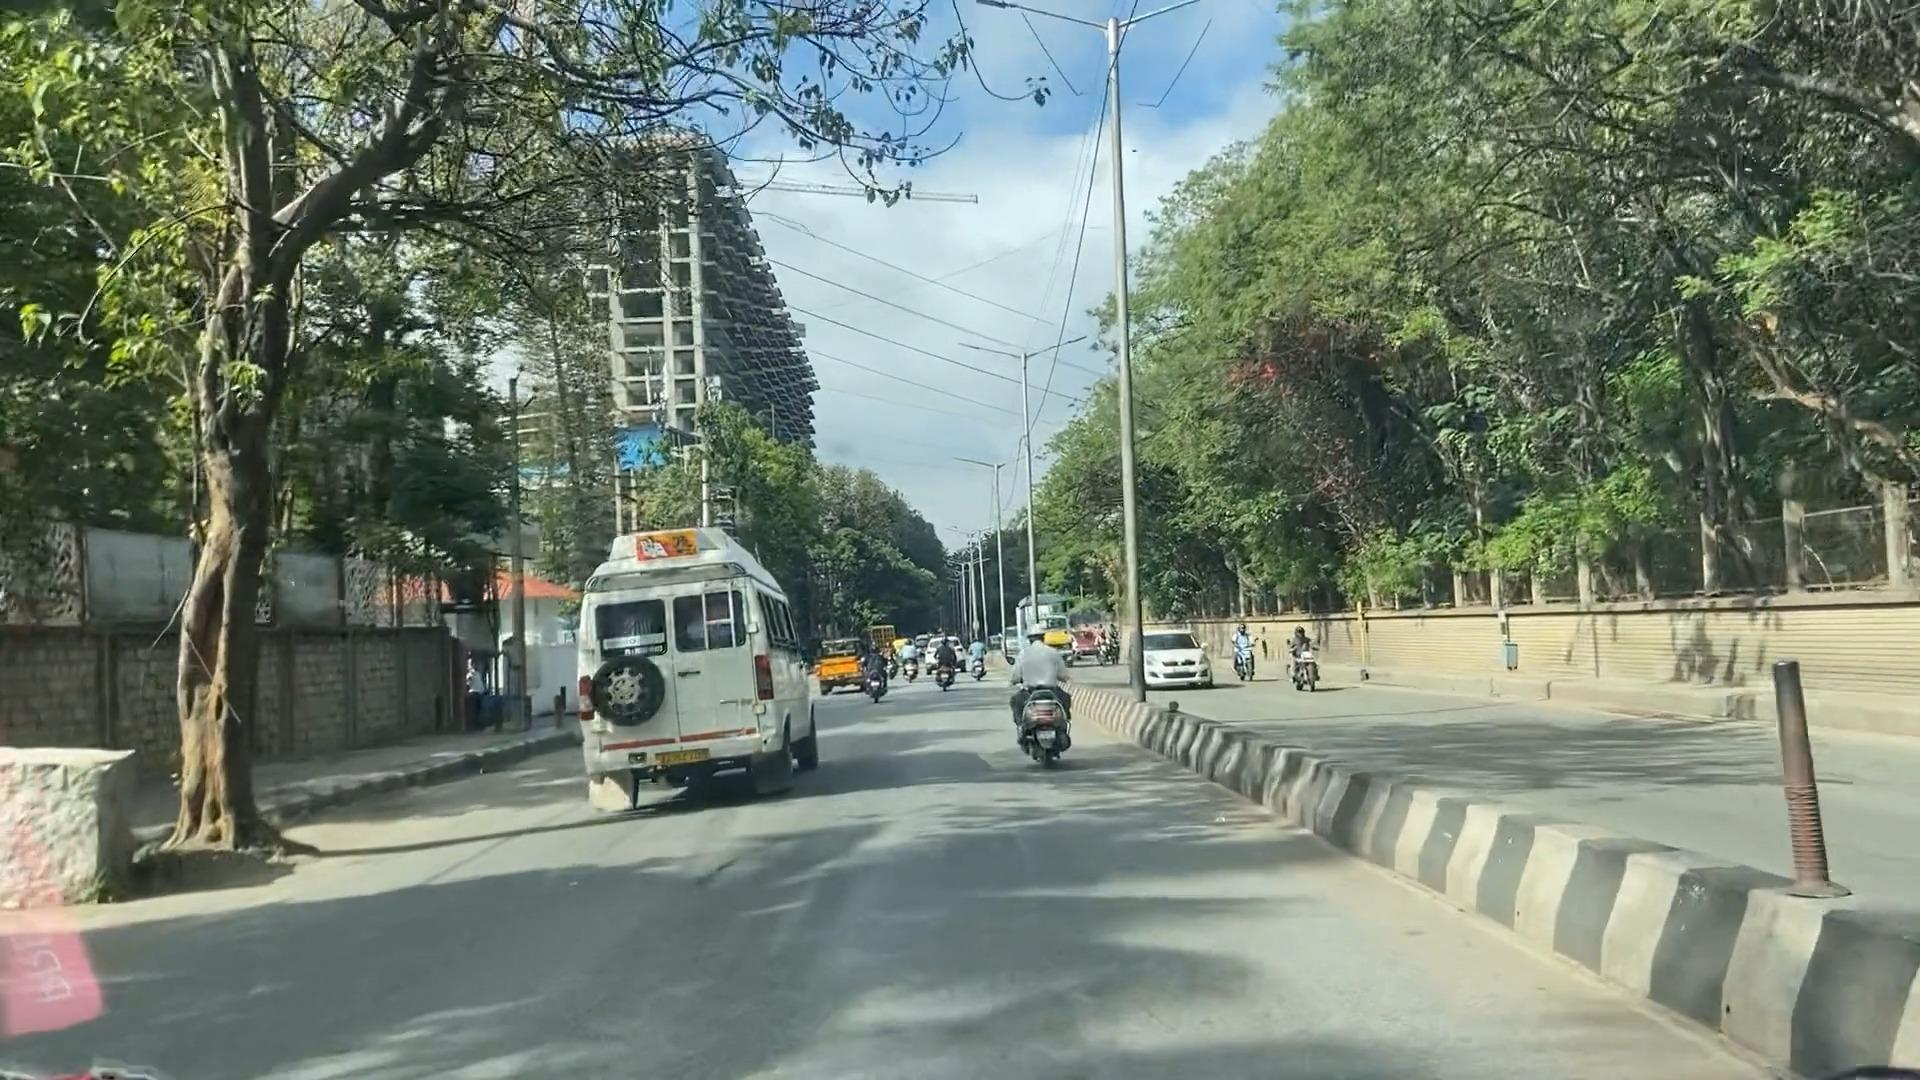HMV: (566, 530, 827, 802)
LMV: (971, 628, 1109, 794)
